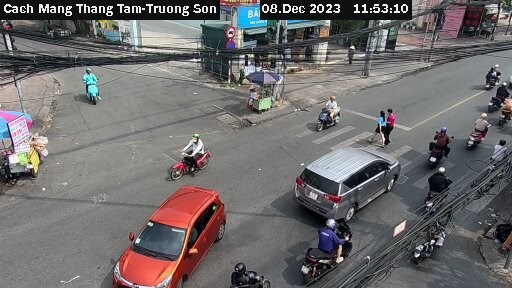car: (109, 182, 226, 288), (293, 136, 398, 216)
motorbike: (292, 222, 356, 277), (409, 214, 454, 269), (157, 140, 214, 183), (417, 165, 455, 212), (460, 109, 498, 149), (226, 255, 271, 288), (304, 96, 345, 130), (70, 71, 111, 104), (420, 126, 453, 166), (481, 57, 511, 89)
